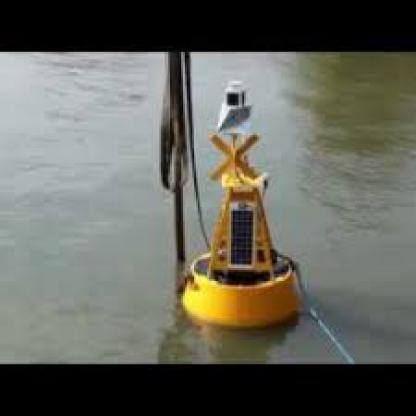buoy: (152, 52, 320, 336)
